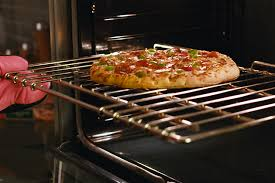pizza: (94, 47, 230, 88)
